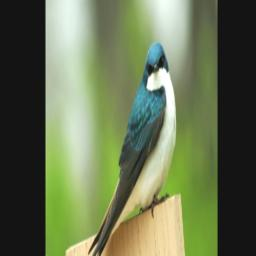Swallow: (76, 34, 184, 256)
